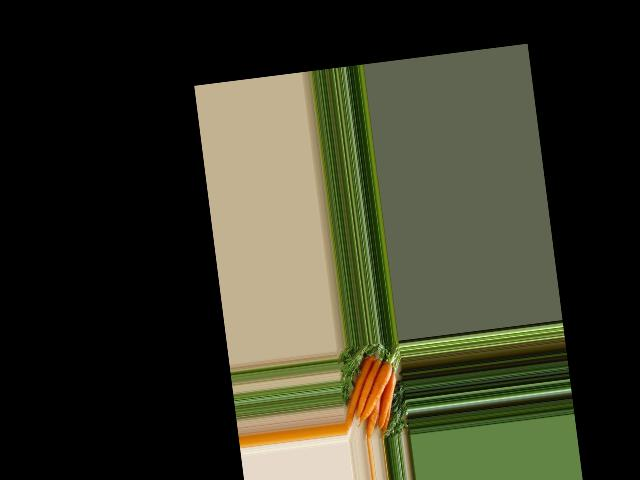carrot: (336, 350, 384, 433)
